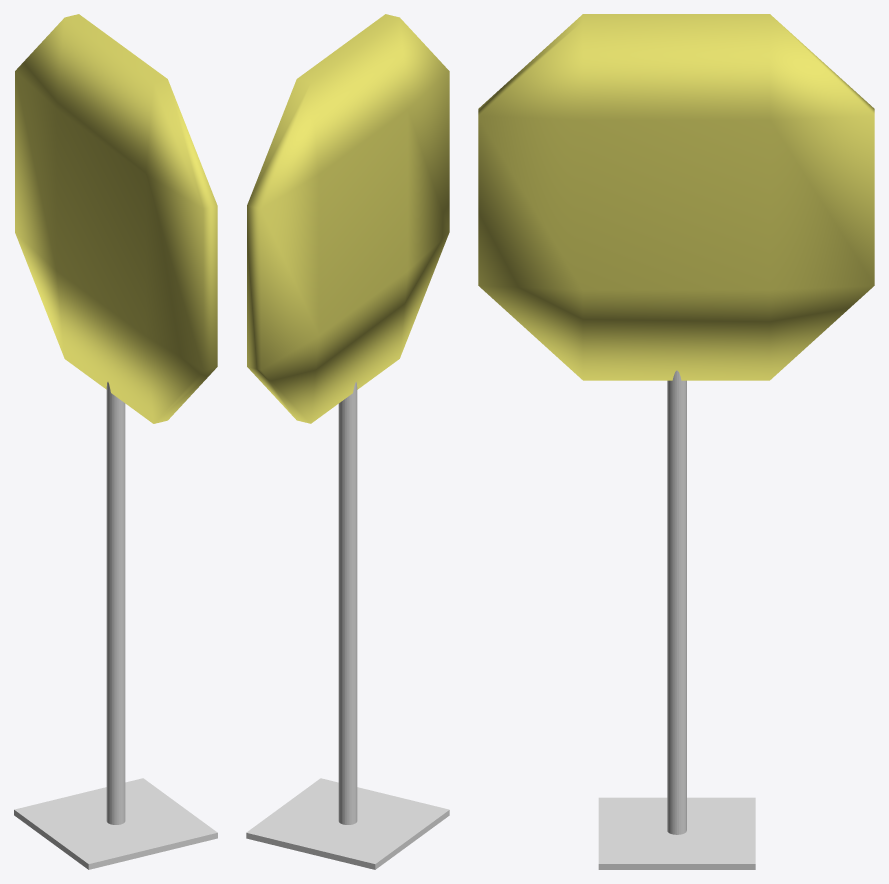
The model's file is placa 3.fbx.
The picture shows the model from 3 angles, left to right: view 1: azimuth 30°, elevation 25°; view 2: azimuth 150°, elevation 25°; view 3: azimuth 270°, elevation 25°; orthographic projection. The views are drawn at different scales.
Visible parts, largest first — view 1: Cube; view 2: Cube; view 3: Cube.
Part boxes in pixels (x1,y1,x2,y2): Cube: [14, 14, 217, 869]; Cube: [246, 14, 449, 869]; Cube: [478, 14, 874, 869].
Bounding box in the file's own units: 26.2 × 151 × 66.2.
